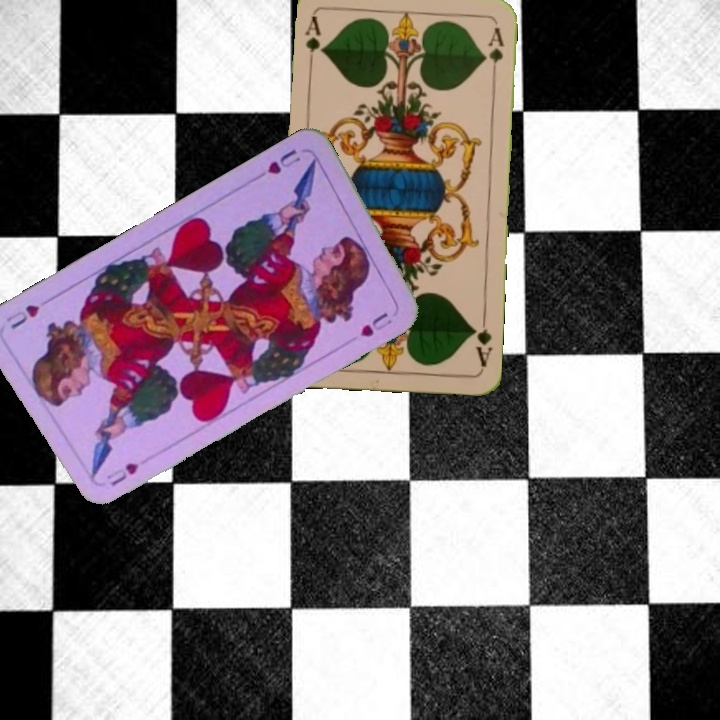GA: (468, 311, 494, 370), (301, 12, 323, 72)
HU: (253, 144, 304, 182), (102, 458, 142, 489)
